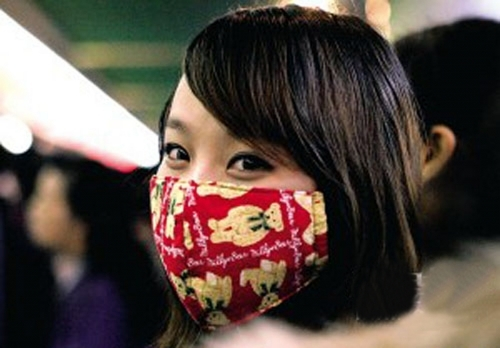face_mask: (149, 72, 332, 314)
